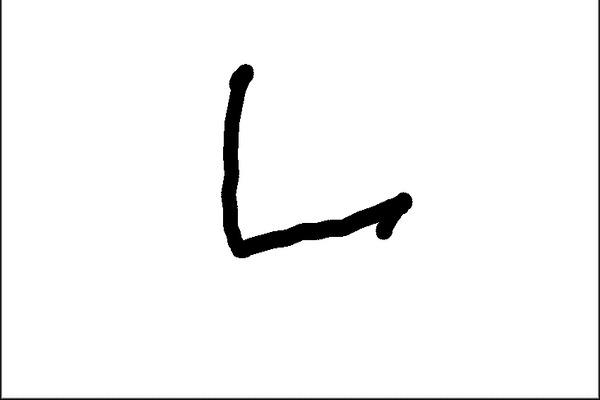L: (212, 56, 418, 262)
